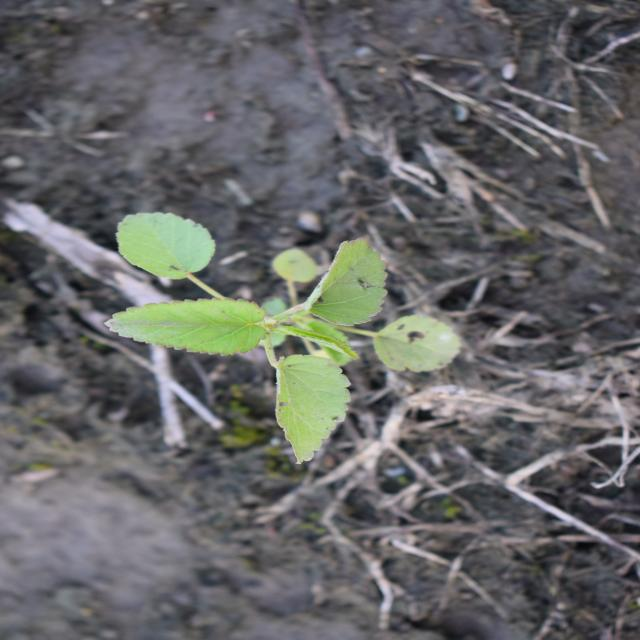PricklySida: (100, 209, 466, 468)
